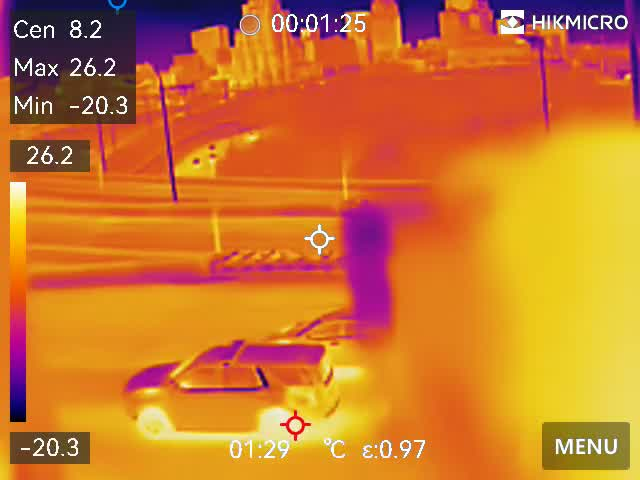largeCar: (113, 342, 347, 440)
